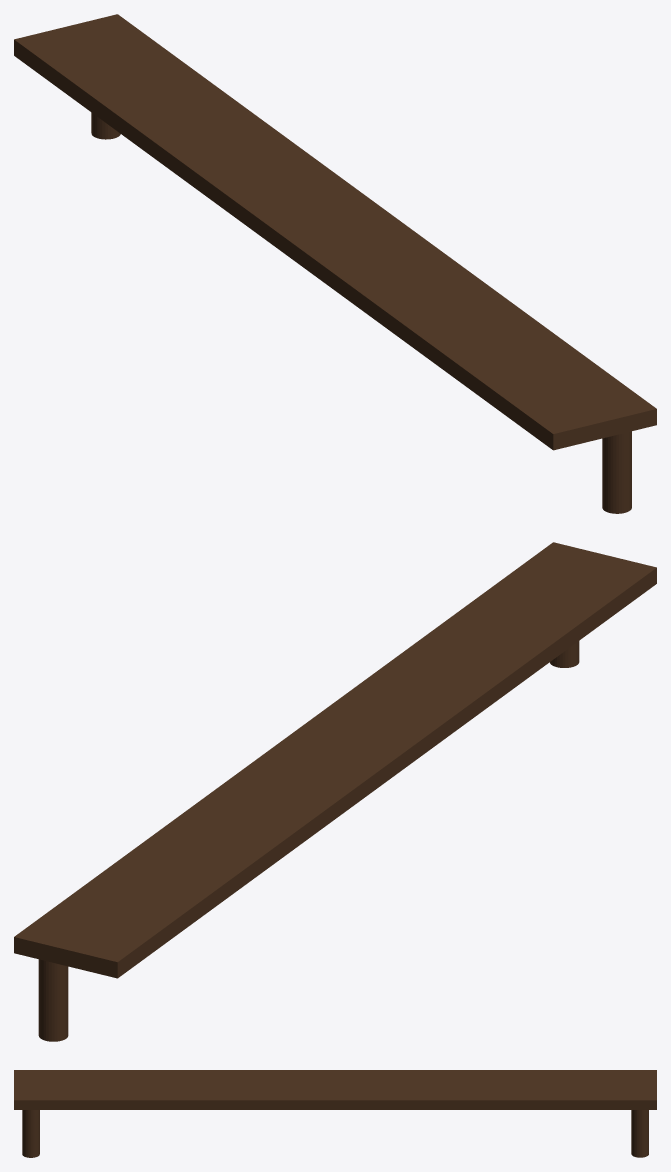
File: Pier.fbx
The picture shows the model from 3 angles, top to bottom: view 1: azimuth 30°, elevation 25°; view 2: azimuth 150°, elevation 25°; view 3: azimuth 270°, elevation 25°; orthographic projection. The views are drawn at different scales.
Parts seen in each view (by area): view 1: Zylinder.001; view 2: Zylinder.001; view 3: Zylinder.001.
Boxes of the visible parts, x1=… form: Zylinder.001: x1=14, y1=14, x2=656, y2=513; Zylinder.001: x1=14, y1=542, x2=656, y2=1041; Zylinder.001: x1=14, y1=1070, x2=656, y2=1157.
Bounding box in the file's own units: 808 × 767 × 7282.
